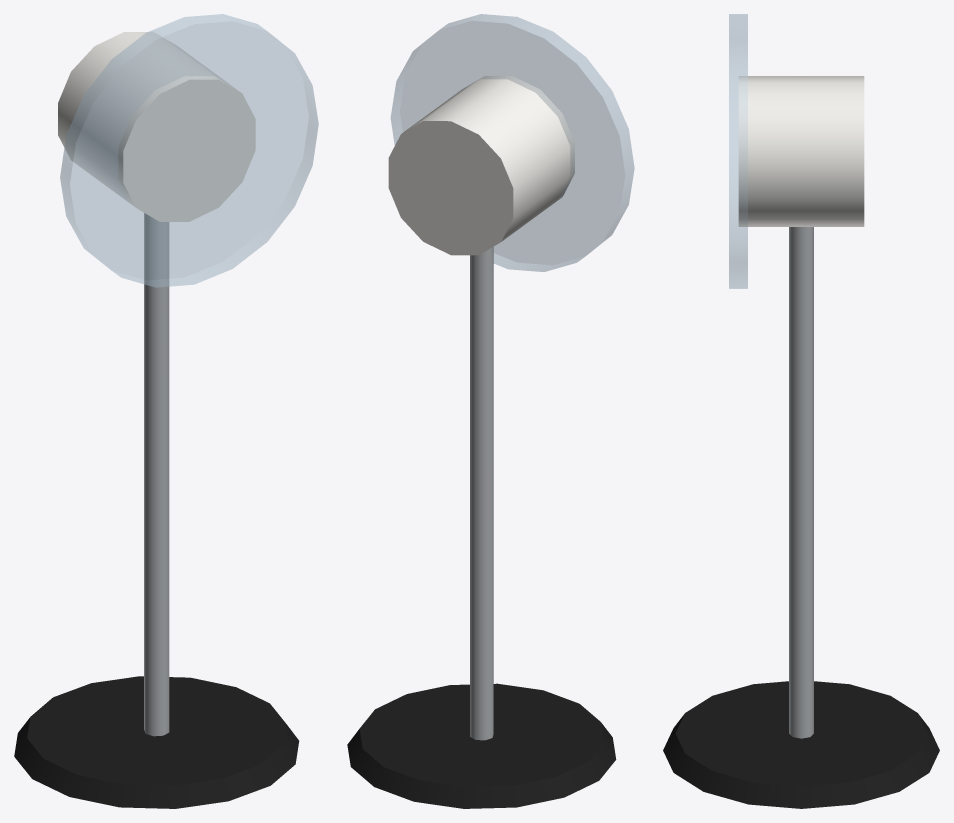
The model's file is fan.obj.
3 renders of one model, left to right at view 1: azimuth 30°, elevation 25°; view 2: azimuth 150°, elevation 25°; view 3: azimuth 270°, elevation 25°, orthographic. The views are drawn at different scales.
Parts seen in each view (by area): view 1: fan_3, fan_0, fan_2, fan_1; view 2: fan_3, fan_0, fan_2, fan_1; view 3: fan_0, fan_2, fan_1, fan_3.
Boxes of the visible parts, <box> form: fan_3: <box>60,14,318,287</box>; fan_0: <box>14,676,299,808</box>; fan_2: <box>58,31,255,221</box>; fan_1: <box>144,213,169,736</box>; fan_3: <box>390,14,634,271</box>; fan_0: <box>347,683,616,808</box>; fan_2: <box>388,76,574,255</box>; fan_1: <box>470,247,493,740</box>; fan_0: <box>663,681,939,808</box>; fan_2: <box>738,76,864,226</box>; fan_1: <box>789,227,813,738</box>; fan_3: <box>729,14,747,288</box>.
Size of the model in its own units: 0.44 by 1.27 by 0.44.
